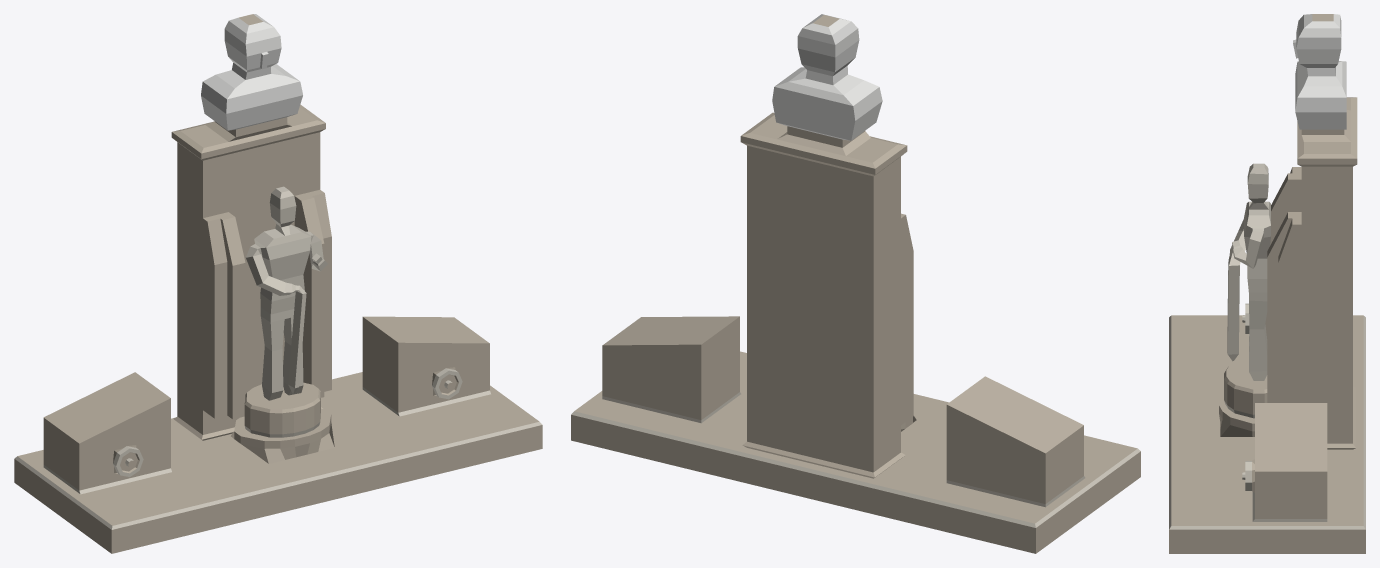
Rendered from pedestal.fbx.
3 renders of one model, left to right at view 1: azimuth 30°, elevation 25°; view 2: azimuth 150°, elevation 25°; view 3: azimuth 270°, elevation 25°, orthographic. The views are drawn at different scales.
Visible parts, largest first — view 1: pedestal_busto; view 2: pedestal_busto; view 3: pedestal_busto.
Boxes of the visible parts, bbox=[...] form: pedestal_busto: bbox=[14, 14, 542, 553]; pedestal_busto: bbox=[571, 14, 1140, 553]; pedestal_busto: bbox=[1169, 14, 1365, 553].
Bounding box in the file's own units: 235 × 222 × 92.
